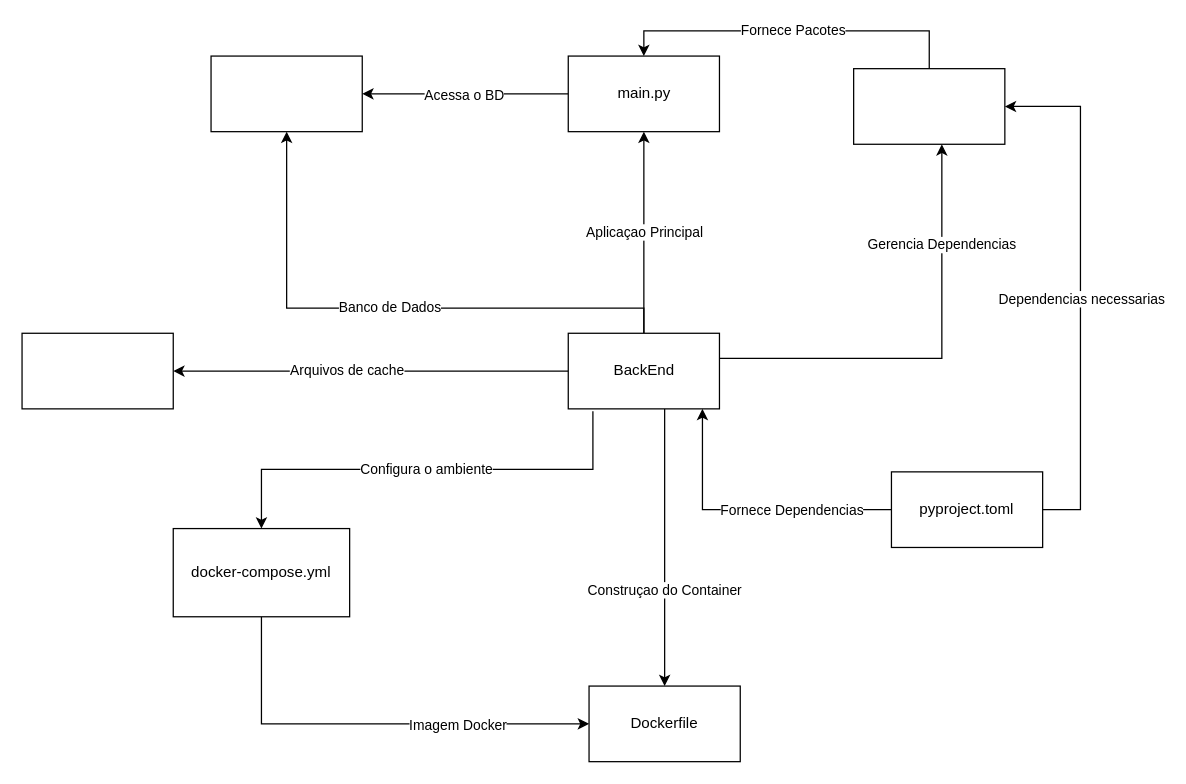
Some shapes in this 1186 by 784 pixel diagram are drawn without their labels. The centre of each missing label's shape, as x and y in pixels:
"__pycache__" belongs at point 97,370.
"livros.db" belongs at point 286,93.
"poetry.lock" belongs at point 928,105.
